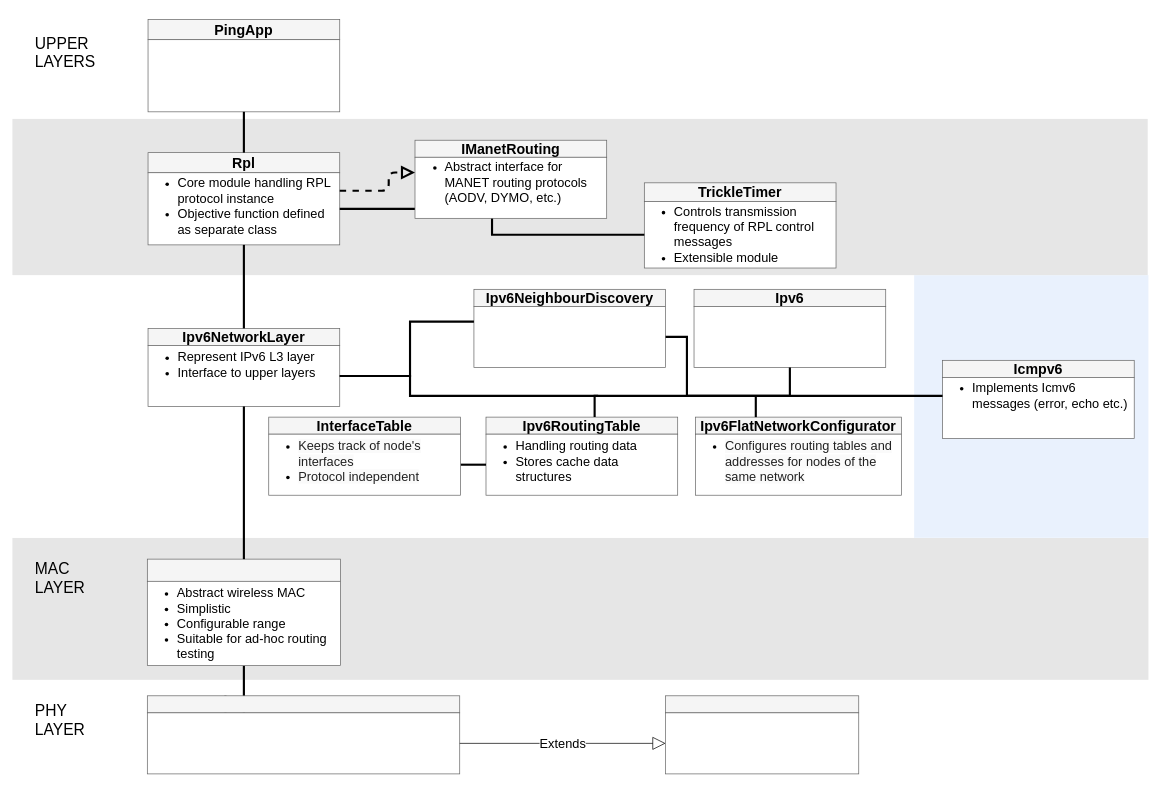
Some shapes in this 1160 by 798 pixel diagram are drawn without their labels. The box of each missing label's shape, as (x1, y1, x2, y2) in pixels:
AckingWirelessInterface: (147, 558, 340, 581)
ICMPv6 SUBLAYER: (914, 275, 1148, 537)
Implements IPv6 protocol: (693, 306, 886, 367)
INET 4.2 medium: (665, 712, 859, 774)
INET 4.2 Simple radio model Fast and predictable: (147, 712, 460, 774)
IPv6 LAYER: (12, 275, 1148, 537)
Neighbour discovery Stateless address autoconfiguration: (473, 306, 666, 367)
RadioMedium: (665, 695, 859, 713)
ROUTING LAYER: (12, 119, 1147, 275)
Send ping requests to other nodes Suitable to monitor topology lifecycle: (147, 39, 340, 112)
UnitDiskRadioMedium: (147, 695, 460, 713)
